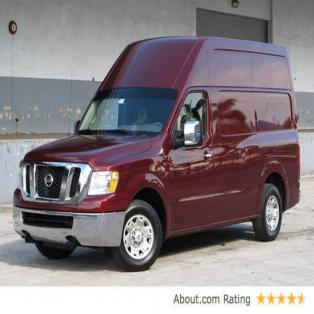Auto: (11, 35, 302, 272)
